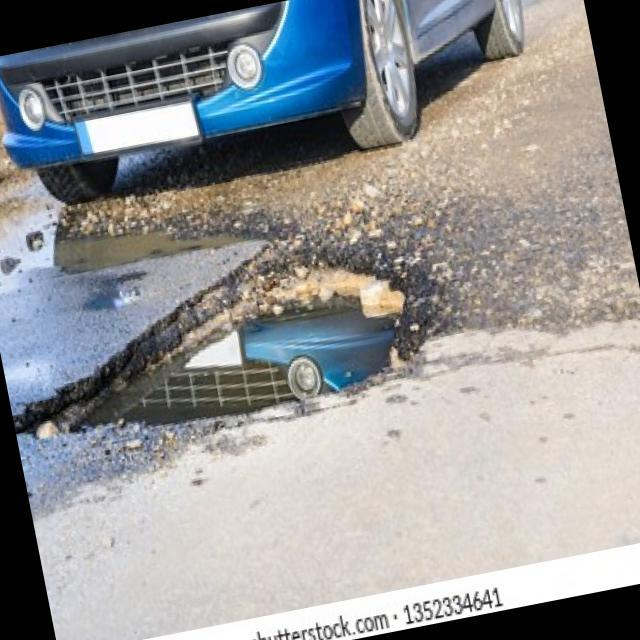Pothole: (0, 222, 436, 464)
